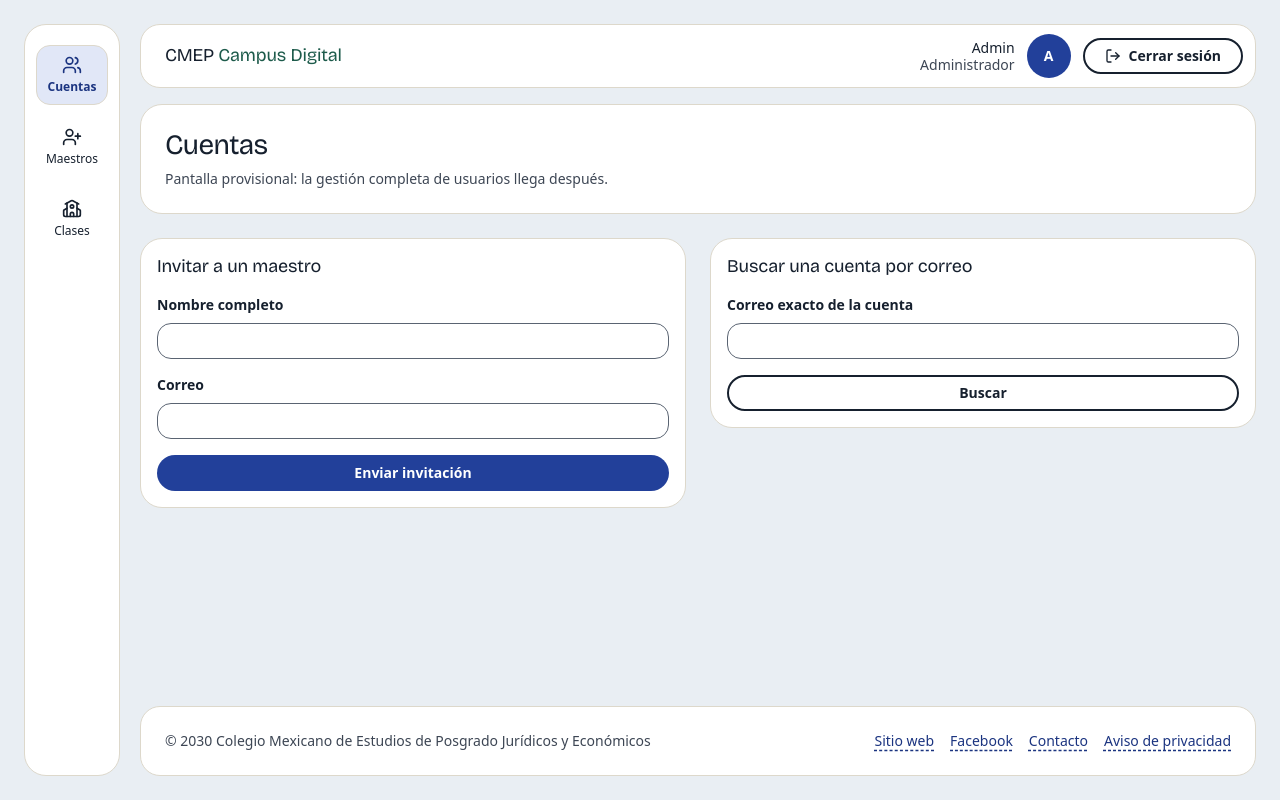
Test: ataque CHORE-03 03c r1 · «Inténtalo de nuevo» en admin por cada camino (rutas y Providers) › buscar una cuenta: repetir el control quita el error y sale bien
Expected: the button "Buscar" is shown, [727,375,1239,411]
Type "carla@colegio.mx" into the field labelled "Correo exacto de la cuenta".
click(983, 341); type("carla@colegio.mx")  # box [727,323,1239,359]
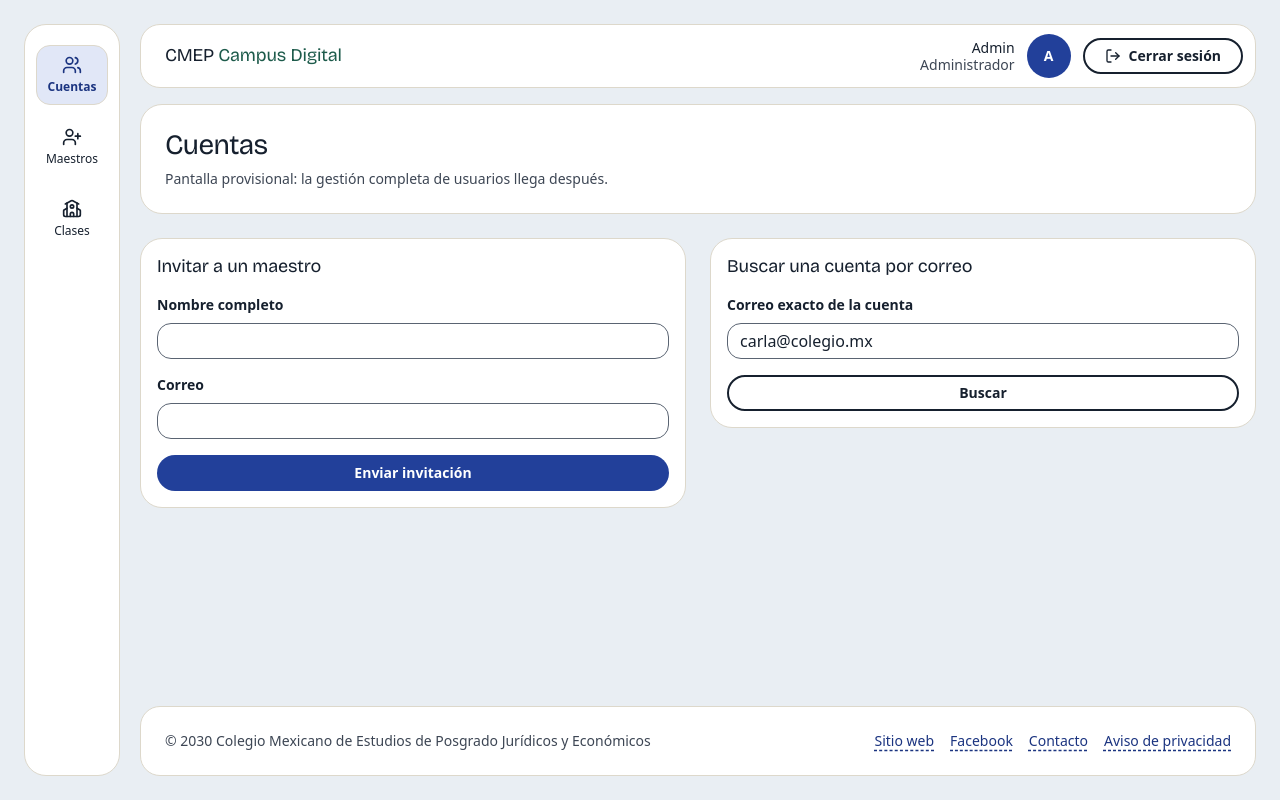
Click the button "Buscar".
click(983, 393)  # box [727,375,1239,411]
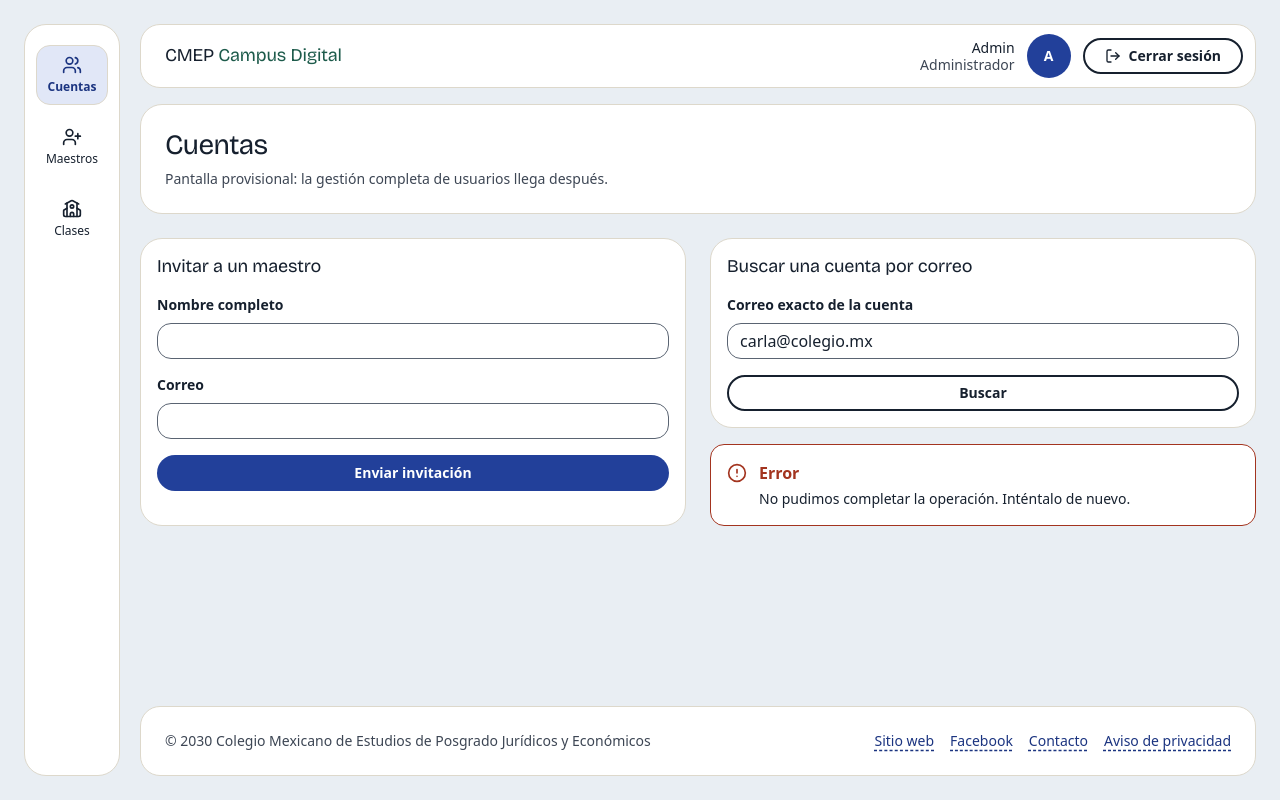
Now the message shows "No pudimos completar la operación. Inténtalo de nuevo.", box [759,489,1130,508]
Click the button "Buscar".
click(983, 393)  # box [727,375,1239,411]
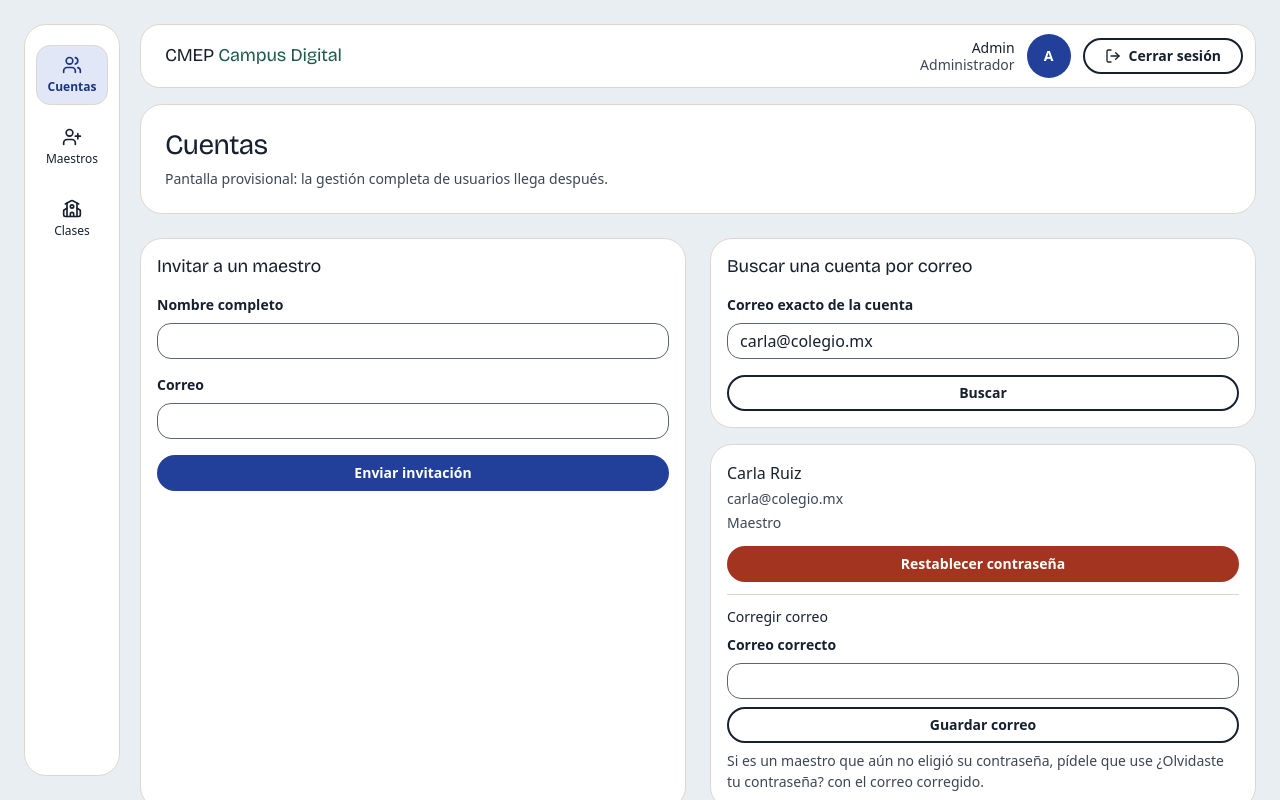
Now the text "Carla Ruiz" is shown, box [727,462,802,484]
Now the text "No pudimos completar la operación. Inténtalo de nuevo." is gone
